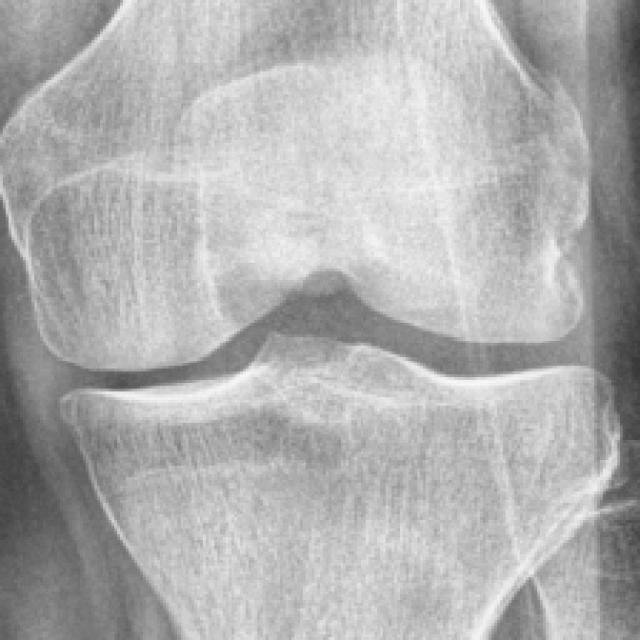femur: (1, 1, 590, 370)
tibia: (59, 334, 624, 640)
